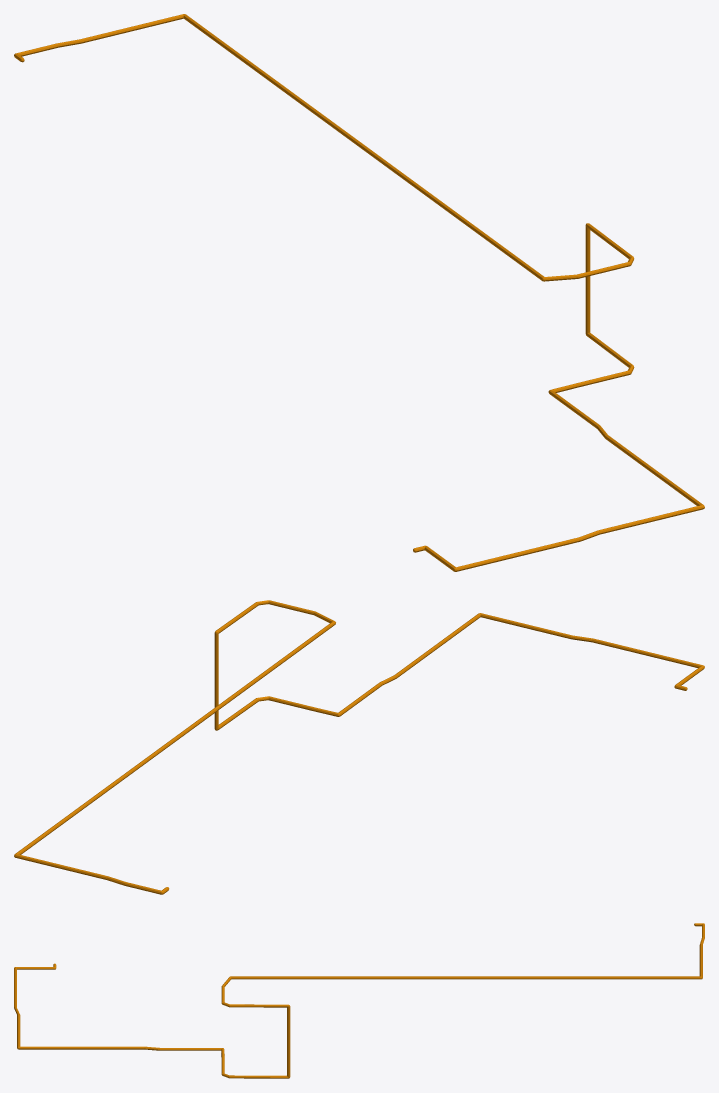
The picture shows the model from 3 angles, top to bottom: view 1: azimuth 30°, elevation 25°; view 2: azimuth 150°, elevation 25°; view 3: azimuth 270°, elevation 25°; orthographic projection. The views are drawn at different scales.
Size of the model in its own units: 1713 by 520 by 4404.
